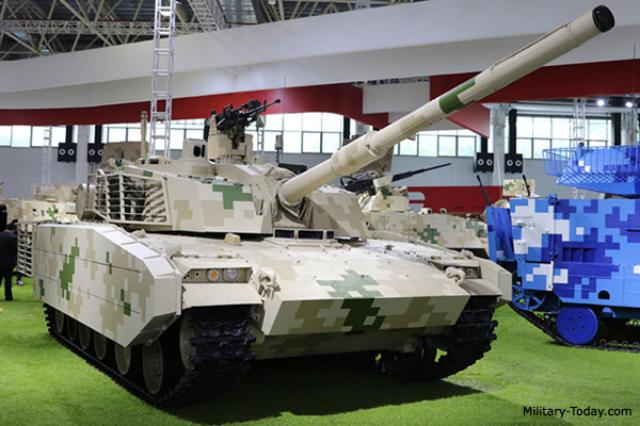other: (0, 200, 12, 300)
tank: (46, 128, 484, 375), (501, 132, 639, 339), (364, 177, 488, 249)
